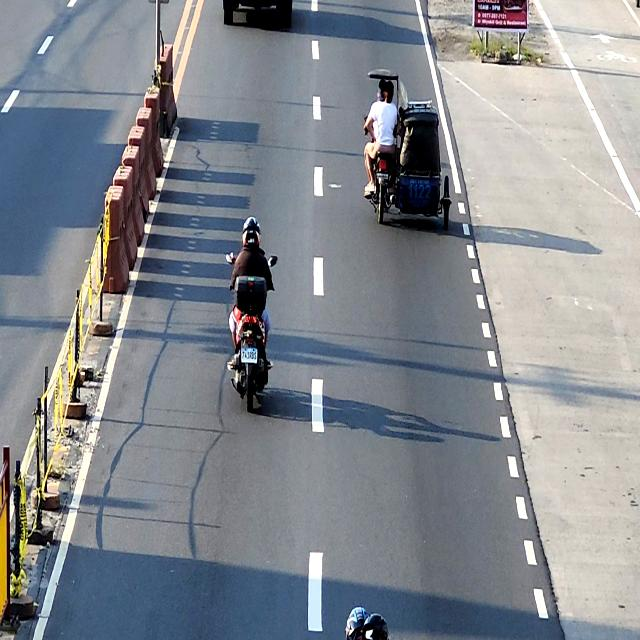License-Plate: (241, 348, 257, 362)
Motorcycle: (226, 250, 278, 414)
Tricycle: (365, 70, 452, 232)
